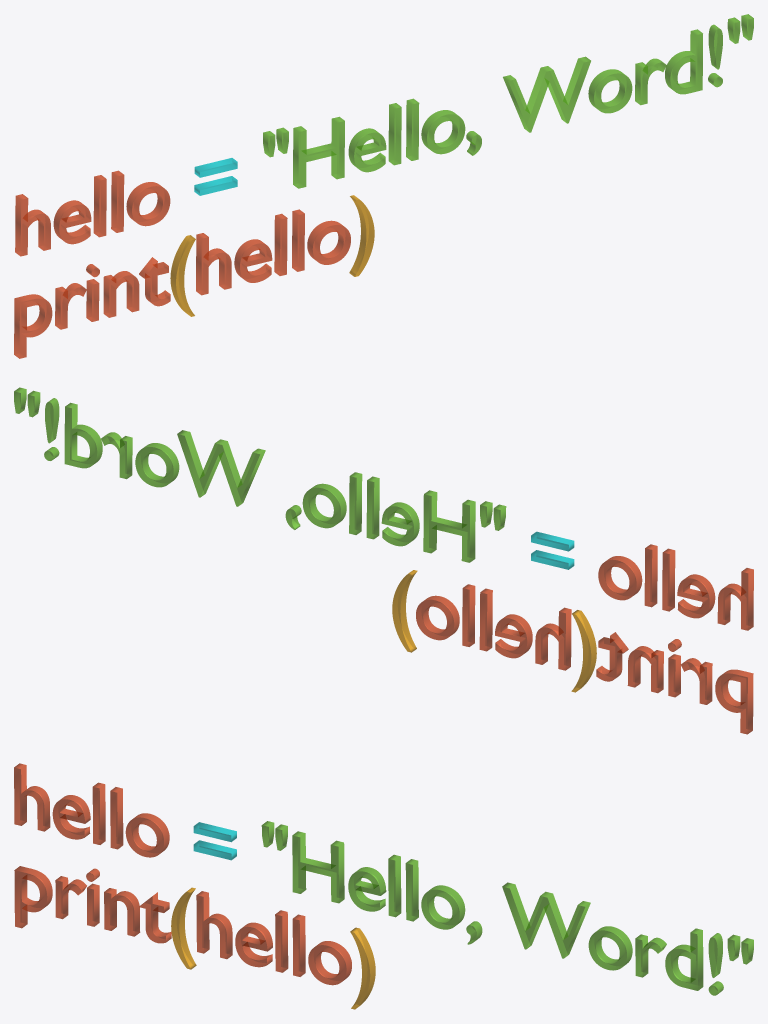
File: hello_world_in_python.glb
3 views of the same model, one above another, from view 1: azimuth 30°, elevation 25°; view 2: azimuth 150°, elevation 25°; view 3: azimuth 330°, elevation 25° (orthographic).
Visible parts, largest first — view 1: Object_4, Object_5, Object_3, Object_2; view 2: Object_4, Object_5, Object_3, Object_2; view 3: Object_4, Object_5, Object_3, Object_2.
Part boxes in pixels (bbox=[...]): Object_4: bbox=[14, 170, 350, 358]; Object_5: bbox=[263, 14, 753, 188]; Object_3: bbox=[170, 195, 374, 316]; Object_2: bbox=[194, 158, 237, 195]; Object_4: bbox=[416, 544, 753, 734]; Object_5: bbox=[14, 387, 506, 562]; Object_3: bbox=[392, 570, 596, 692]; Object_2: bbox=[531, 531, 574, 569]; Object_4: bbox=[14, 763, 351, 985]; Object_5: bbox=[261, 821, 753, 995]; Object_3: bbox=[171, 887, 375, 1009]; Object_2: bbox=[193, 822, 236, 860].
Size of the model in its own units: 9.18 by 1.95 by 0.1478.
